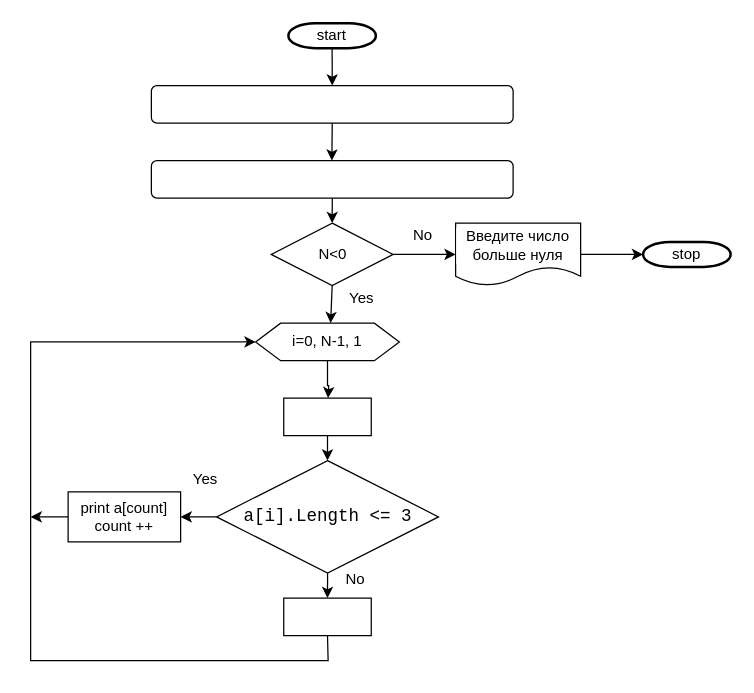
This 754x693 diagram has some shape labels left out. The shapes that lost their labels are listed below. From the top down, each one's box as (x1, y1, x2, y2) in pixels, then its label:
(150, 84, 513, 123): Введите количество элементов массива N
(150, 159, 513, 198): Введите элементы массива a[i]
(282, 397, 371, 436): count = 0
(282, 597, 371, 636): count ++
